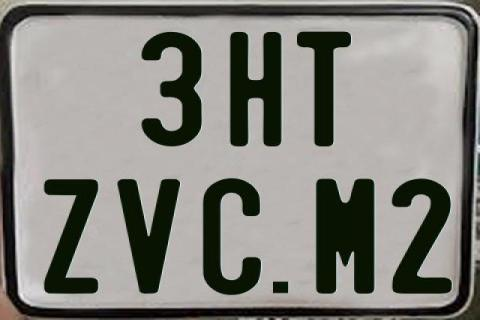0: (389, 176, 455, 295), (140, 32, 204, 150)
C: (203, 176, 267, 293)
H: (227, 32, 281, 149)
M: (314, 178, 372, 296)
T: (297, 30, 356, 148)
V: (116, 179, 182, 297)
Z: (43, 178, 101, 294)
